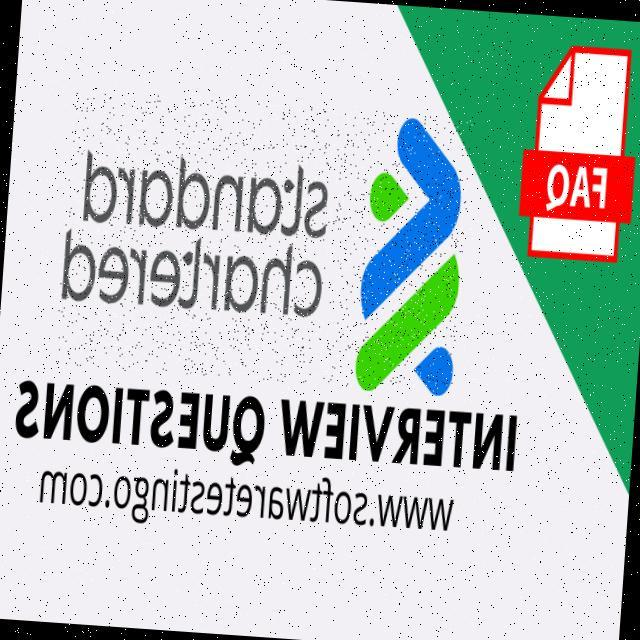Standard Chartered: (55, 90, 473, 394)
